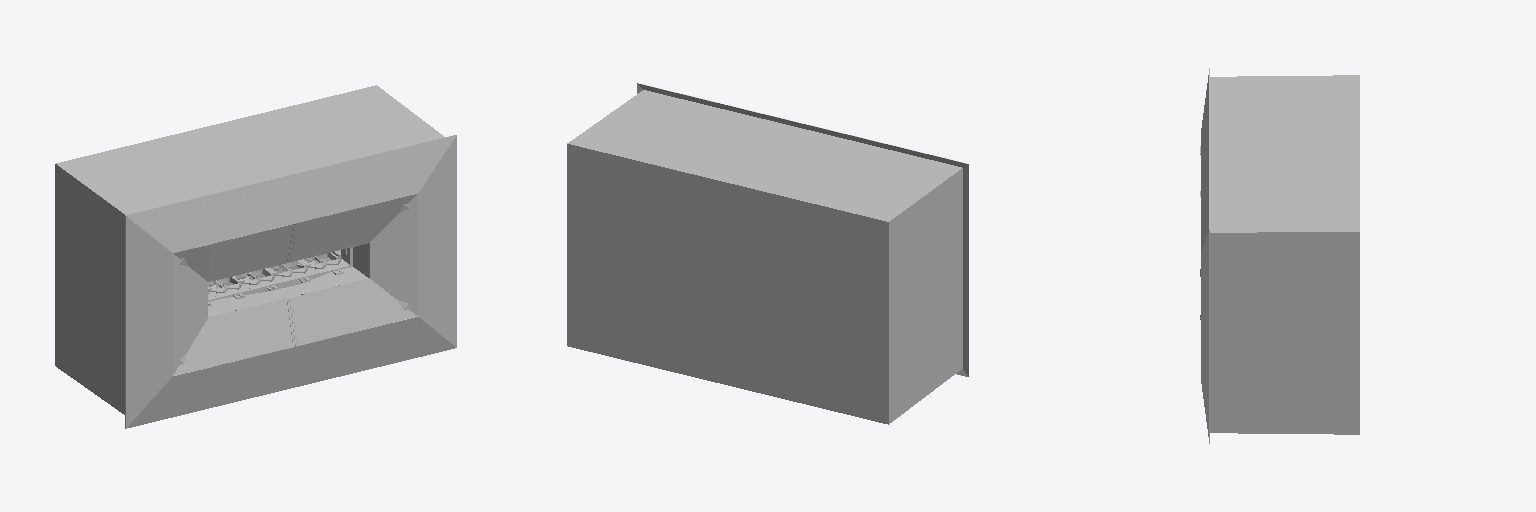
File: sponza.obj
3 views of the same model, side by side, from view 1: azimuth 30°, elevation 25°; view 2: azimuth 150°, elevation 25°; view 3: azimuth 270°, elevation 25° (orthographic).
Visible parts, largest first — view 1: sponza_382; view 2: sponza_382; view 3: sponza_382.
Boxes of the visible parts, box(x1,y1,x2,y2) form: sponza_382: box(55, 85, 456, 428); sponza_382: box(567, 83, 968, 424); sponza_382: box(1200, 68, 1359, 443).
Bounding box in the file's own units: 8.07 × 4.97 × 3.37.